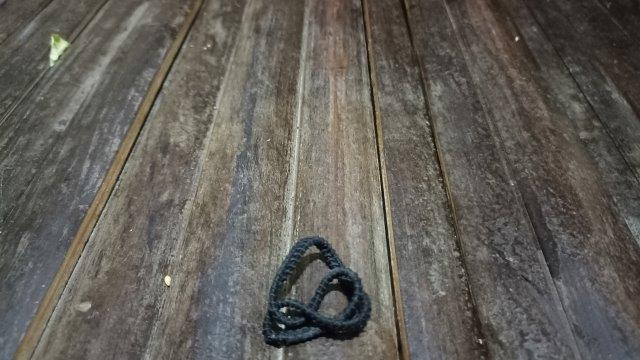karet: (263, 237, 371, 347)
